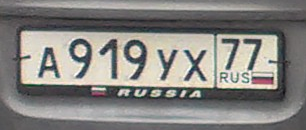character: (122, 36, 148, 81), (67, 36, 93, 80), (98, 36, 120, 81), (36, 45, 63, 80), (182, 48, 208, 83), (154, 48, 179, 82), (218, 36, 241, 71), (241, 37, 263, 71)
